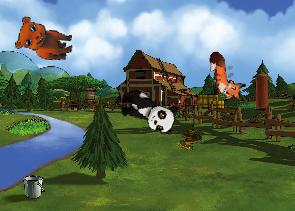bear: (14, 15, 75, 61)
fox: (207, 49, 247, 104)
panda: (114, 85, 181, 137)
